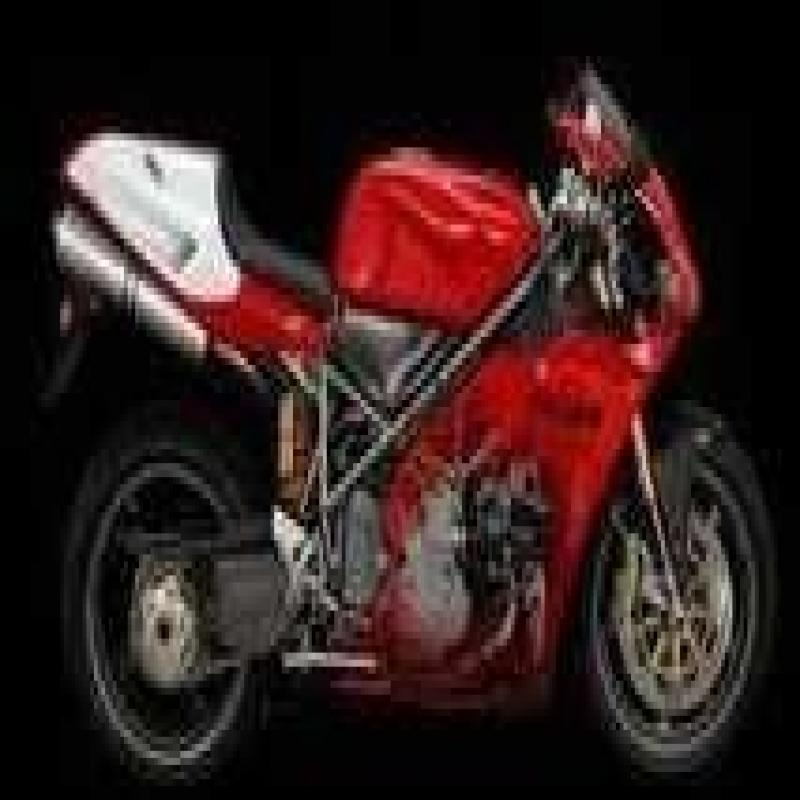bike: (23, 44, 772, 800)
